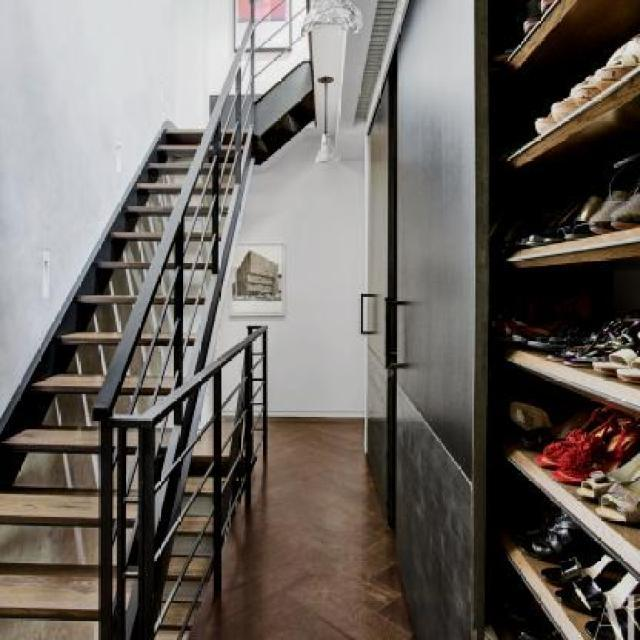stair: (0, 52, 275, 639)
